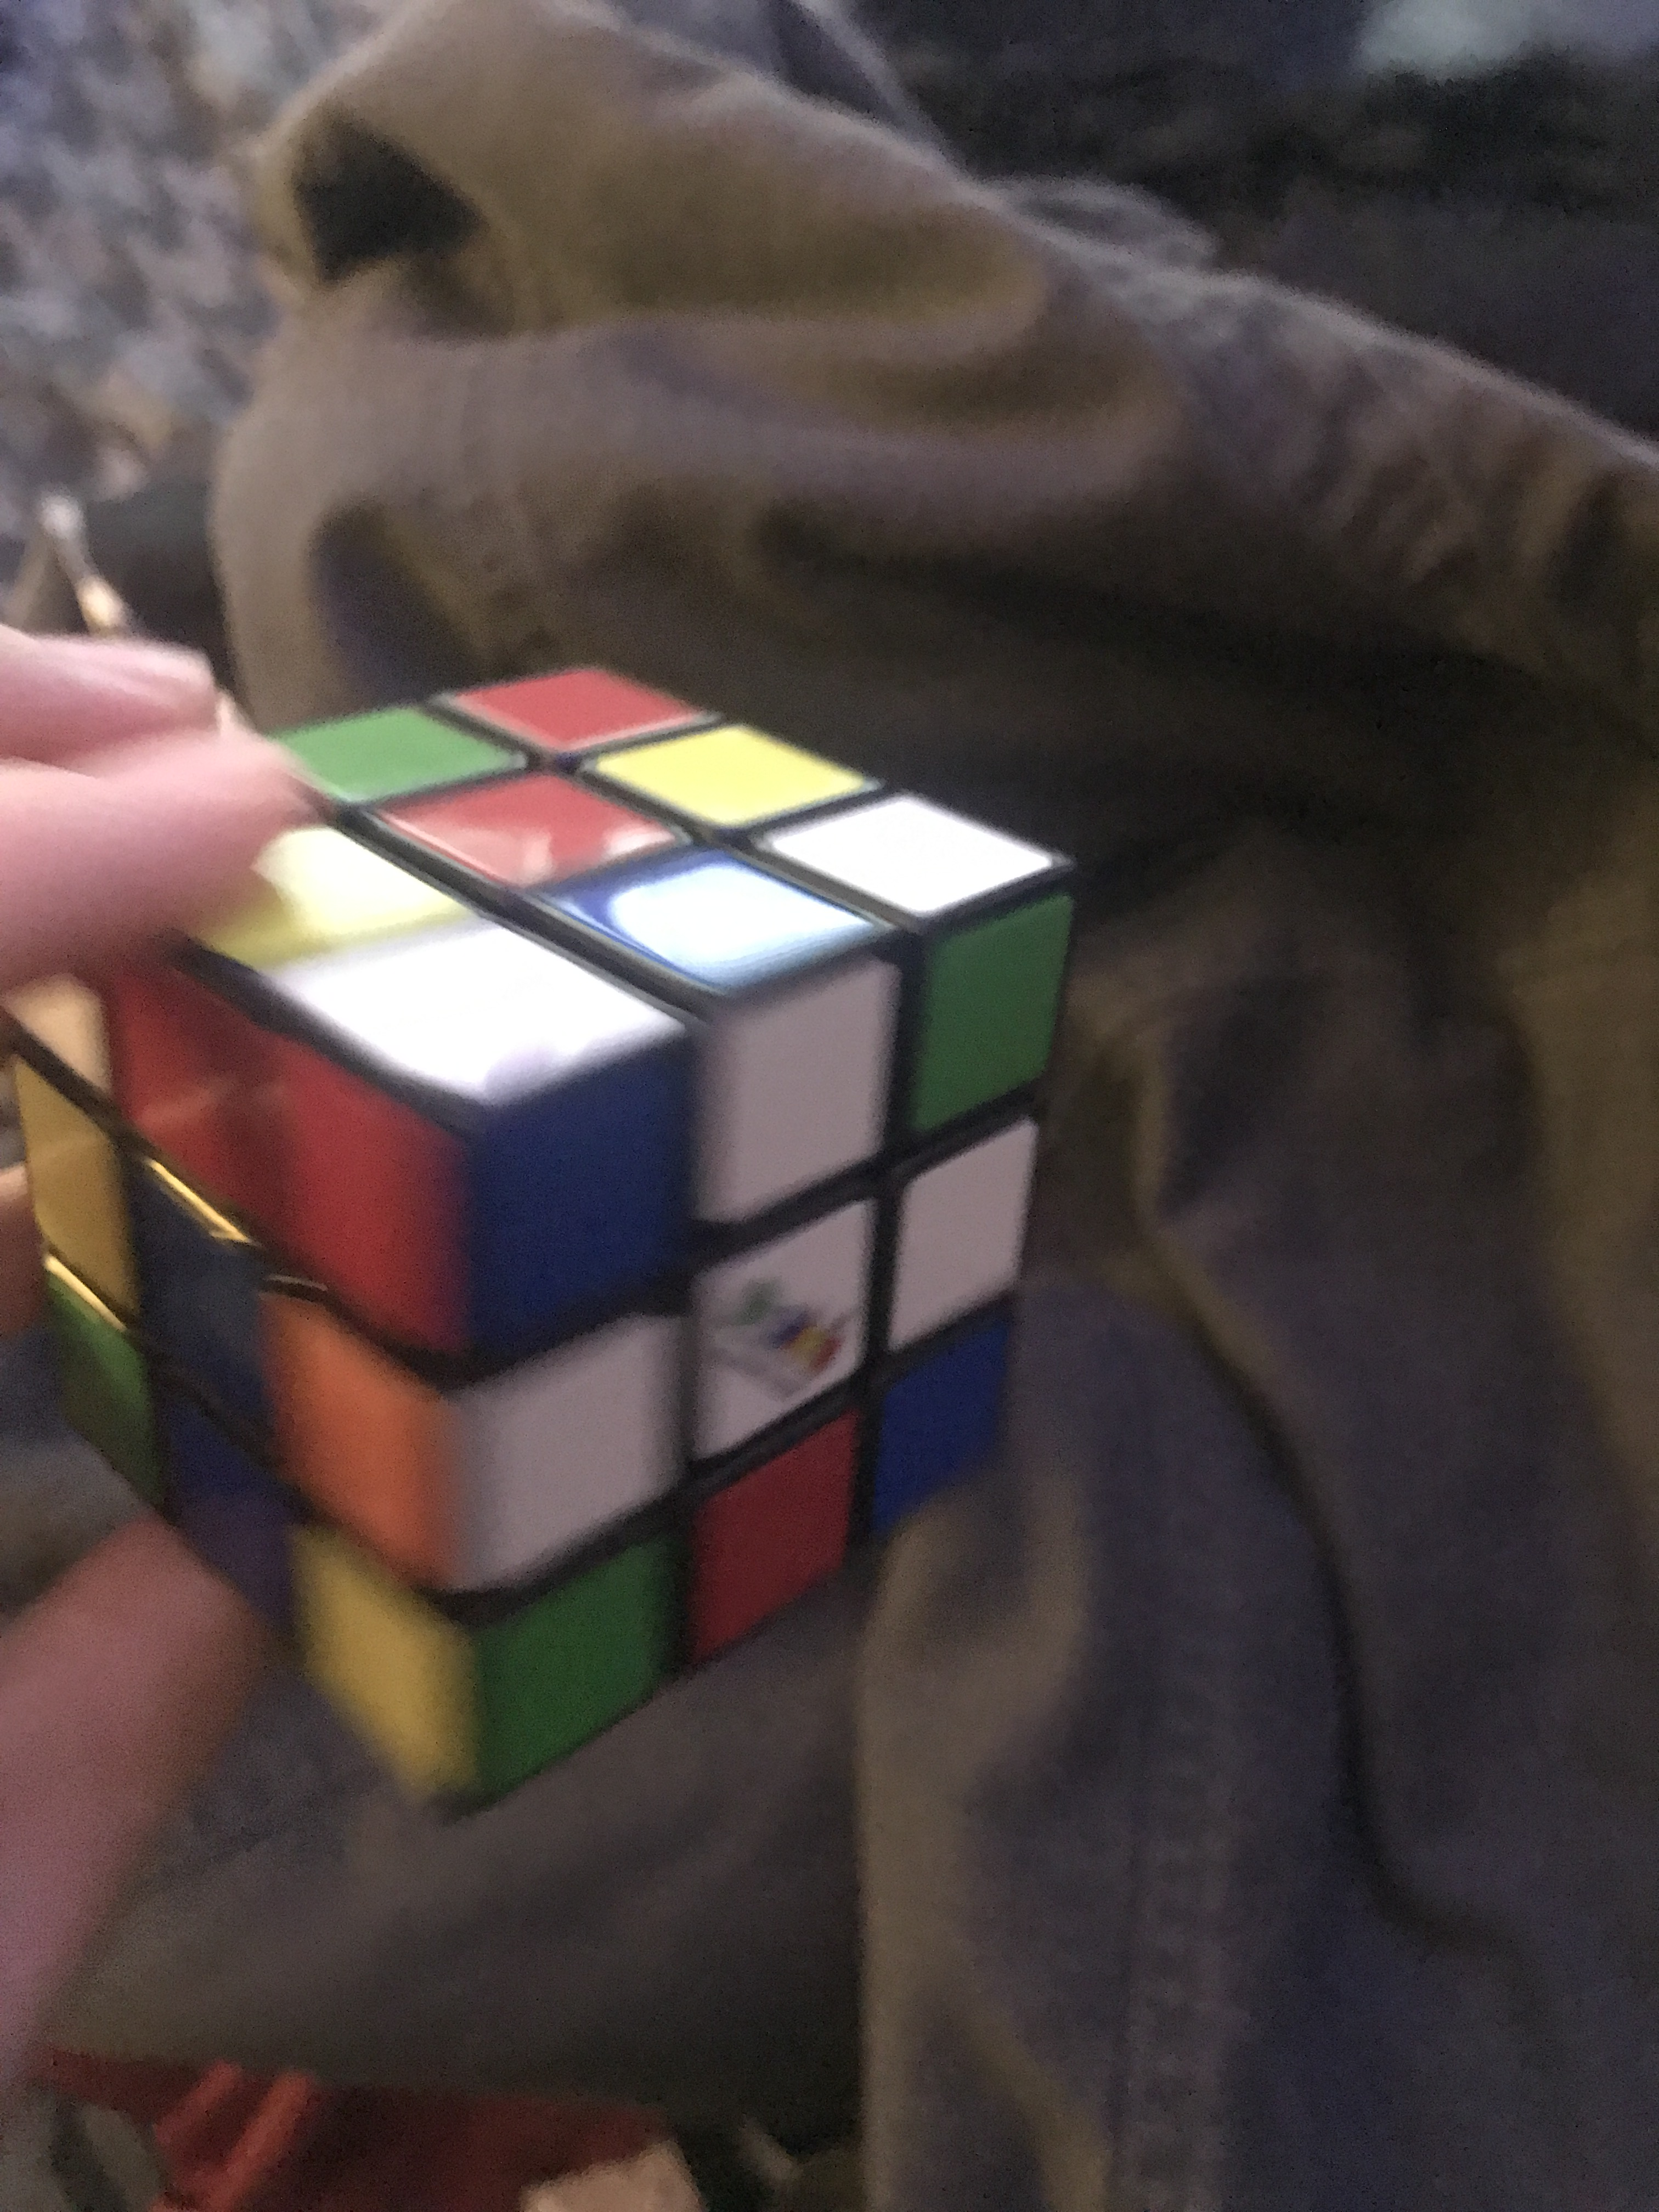rubiks: (21, 650, 1070, 1811)
